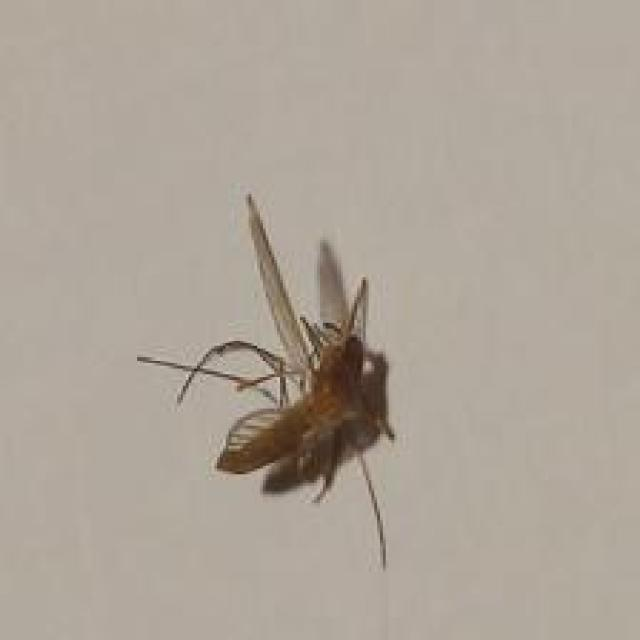Culex: (136, 192, 398, 572)
